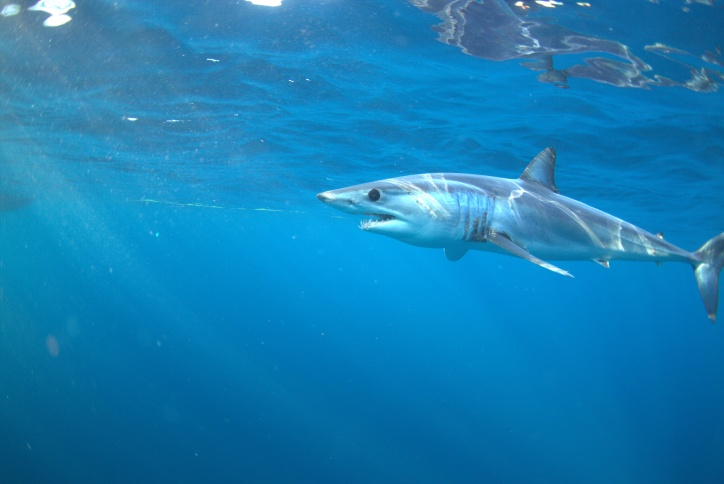Mako: (313, 140, 724, 328)
